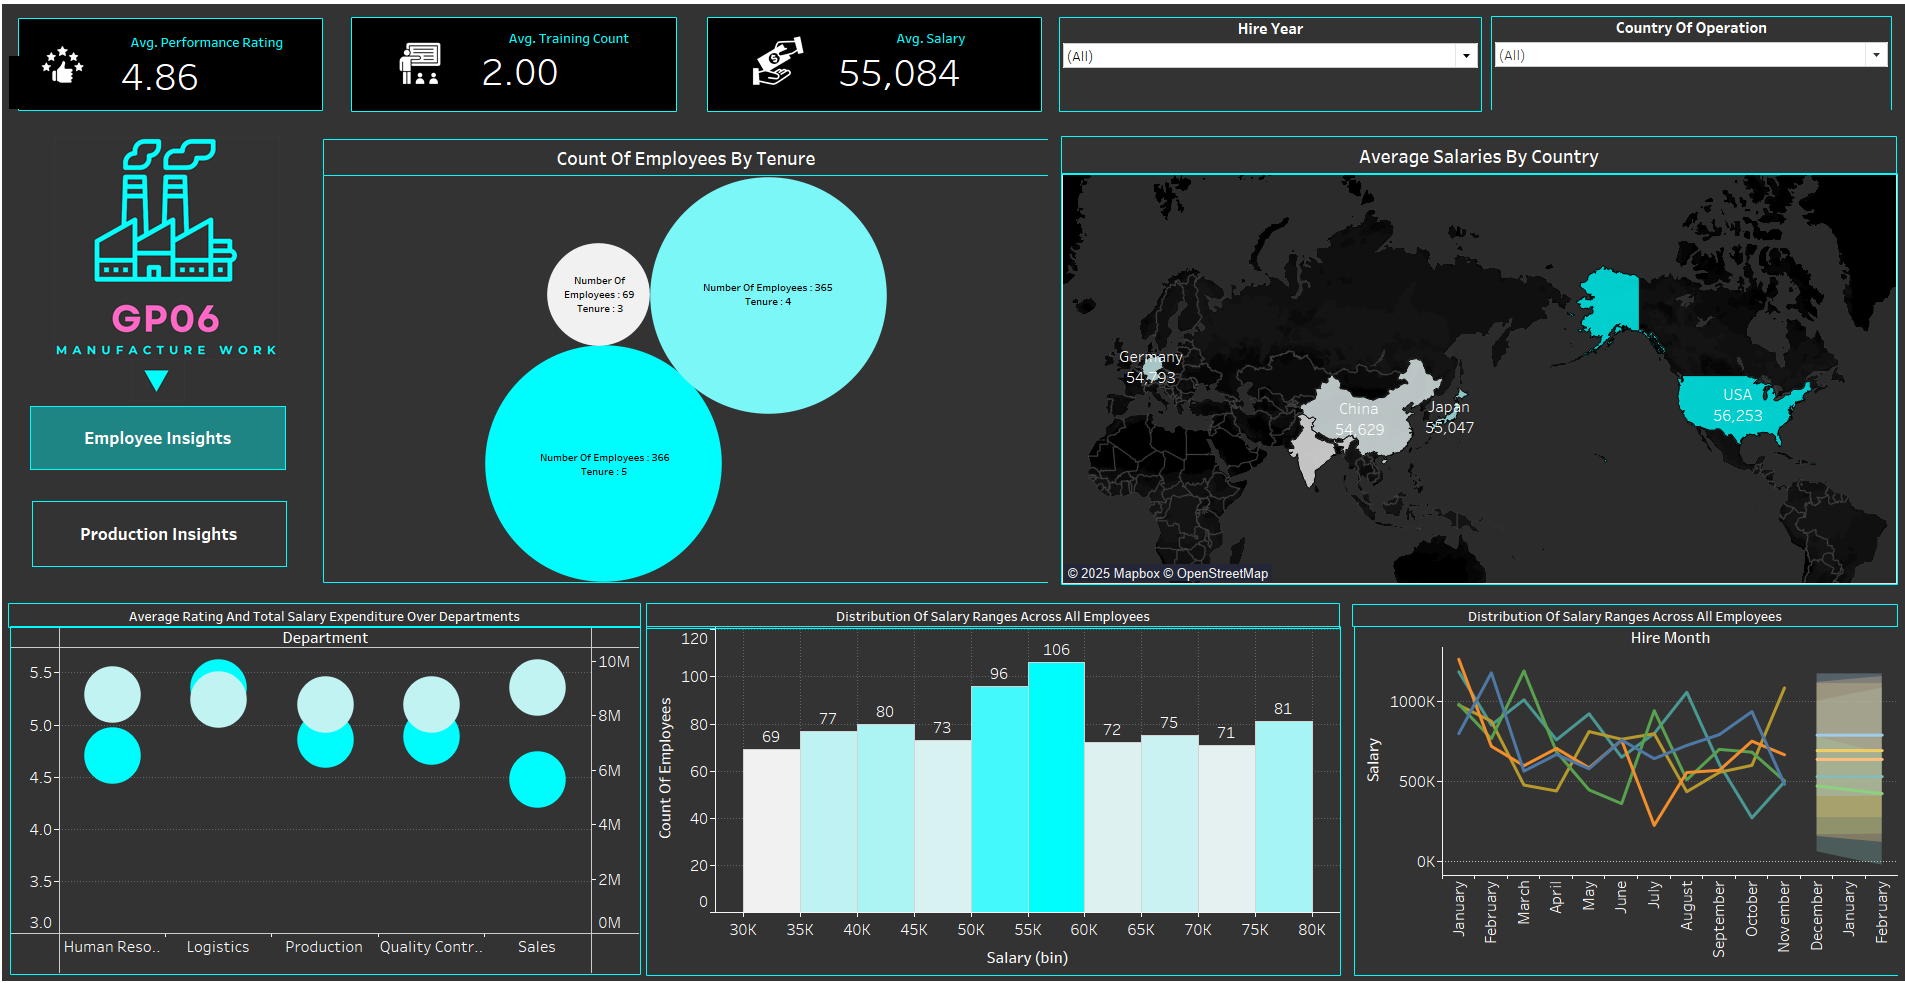

What the dashboard file says about the page in this screenshot:
{"tool":"tableau","page":{"name":"Dashboard Z-Employee Insights","canvas":[1000,1000],"units":"permille","ordinal":1},"visuals":[{"type":"filter","title":"4k-Average Salaries By Country","param":"[federated.16mxhaw1crub1916i474u0y57at2].[none:CountryOfOperation:nk]","box":[779.5,19.8,209,95.3]},{"type":"blank","box":[186.1,21,169.7,95.3]},{"type":"text","box":[239.3,21,119.7,42.1]},{"type":"blank","box":[371.3,21,174.6,95.3]},{"type":"text","box":[428,21,119.6,42.1]},{"type":"filter","title":"10s-Count Of Employees By Tenure","param":"[federated.16mxhaw1crub1916i474u0y57at2].[Action (Hire Year)]","box":[554.9,21,220.5,95.3]},{"type":"blank","box":[12.3,22.3,159,94.1]},{"type":"text","box":[50.8,24.8,119.7,42.1]},{"type":"image","param":"Image/Screenshot 2024-03-15 at 7.41.24 PM.png","box":[14.8,27.2,42.6,85.4]},{"type":"image","param":"Image/Screenshot 2024-03-15 at 8.55.25 PM.png","box":[374.3,27.2,65.9,80.5]},{"type":"image","param":"Image/Screenshot 2024-03-15 at 7.46.29 PM.png","box":[197.5,32.2,50.8,74.3]},{"type":"worksheet","title":"Avg Training Count","mark":"Automatic","box":[238.5,56.9,91.8,54.5]},{"type":"worksheet","title":"Avg Salary","mark":"Automatic","box":[432.9,56.9,110.7,69.3]},{"type":"worksheet","title":"Avg Performance Rating","mark":"Automatic","box":[7.9,60.4,149.1,53.4]},{"type":"image","param":"Image/Screenshot 2024-03-15 at 10.14.24 PM.png","box":[19.7,141.1,140.2,225.2]},{"type":"text","box":[555.7,141.1,435.2,39.6]},{"type":"text","box":[171.3,143.6,377.9,37.1]},{"type":"worksheet","title":"4k-Average Salaries By Country","mark":"Automatic","box":[555.7,178.2,436.1,414.6]},{"type":"worksheet","title":"10s-Count Of Employees By Tenure","mark":"Circle","box":[171.3,180.7,377.9,410.9]},{"type":"image","param":"Image/Screenshot 2024-03-15 at 6.59.47 PM.png","box":[45.6,357.7,79.7,50.7]},{"type":"dashboard-object","box":[18.7,413.4,133.4,64.4]},{"type":"dashboard-object","box":[19.8,508.7,133,66.8]},{"type":"text","box":[7.4,611.4,329.5,24.8]},{"type":"text","box":[339.3,611.4,361.5,26]},{"type":"text","box":[707.4,612.6,284.4,23.5]},{"type":"worksheet","title":"12g-Average Performance Rating And Total Salary Expenditure Over Departments","mark":"Automatic","rows":["Calculation_406379562102562824","Calculation_406379562099986439"],"cols":["Calculation_406379562094436358"],"box":[8.2,634.9,328.7,351.5]},{"type":"worksheet","title":"5z-Distribution Of Salary Ranges Across All Employees","mark":"Automatic","rows":["EmployeeID"],"cols":["Updated Salary (bin)"],"box":[339.5,634.9,362.1,352.7]},{"type":"worksheet","title":"16t-Predictive Forecasting Of Salary Over Upcoming Time Period","mark":"Automatic","rows":["Calculation_406379562099986439"],"cols":["Hire Month"],"box":[708.2,634.9,283.6,352.7]}]}

Visuals, with their boxes on the dashboard's canvas, which has no fixed pixel size, in thousandths of its width and height (x1, y1, x2, y2). These are canvas units, not pixel positions in the 1905x983 screenshot, which may show the page scaled, cropped or inside an application window:
"4k-Average Salaries By Country" filter: {"x1": 780, "y1": 20, "x2": 988, "y2": 115}
blank: {"x1": 186, "y1": 21, "x2": 356, "y2": 116}
text: {"x1": 239, "y1": 21, "x2": 359, "y2": 63}
blank: {"x1": 371, "y1": 21, "x2": 546, "y2": 116}
text: {"x1": 428, "y1": 21, "x2": 548, "y2": 63}
"10s-Count Of Employees By Tenure" filter: {"x1": 555, "y1": 21, "x2": 775, "y2": 116}
blank: {"x1": 12, "y1": 22, "x2": 171, "y2": 116}
text: {"x1": 51, "y1": 25, "x2": 170, "y2": 67}
image: {"x1": 15, "y1": 27, "x2": 57, "y2": 113}
image: {"x1": 374, "y1": 27, "x2": 440, "y2": 108}
image: {"x1": 198, "y1": 32, "x2": 248, "y2": 106}
"Avg Training Count" worksheet: {"x1": 238, "y1": 57, "x2": 330, "y2": 111}
"Avg Salary" worksheet: {"x1": 433, "y1": 57, "x2": 544, "y2": 126}
"Avg Performance Rating" worksheet: {"x1": 8, "y1": 60, "x2": 157, "y2": 114}
image: {"x1": 20, "y1": 141, "x2": 160, "y2": 366}
text: {"x1": 556, "y1": 141, "x2": 991, "y2": 181}
text: {"x1": 171, "y1": 144, "x2": 549, "y2": 181}
"4k-Average Salaries By Country" worksheet: {"x1": 556, "y1": 178, "x2": 992, "y2": 593}
"10s-Count Of Employees By Tenure" worksheet (Circle marks): {"x1": 171, "y1": 181, "x2": 549, "y2": 592}
image: {"x1": 46, "y1": 358, "x2": 125, "y2": 408}
dashboard-object: {"x1": 19, "y1": 413, "x2": 152, "y2": 478}
dashboard-object: {"x1": 20, "y1": 509, "x2": 153, "y2": 576}
text: {"x1": 7, "y1": 611, "x2": 337, "y2": 636}
text: {"x1": 339, "y1": 611, "x2": 701, "y2": 637}
text: {"x1": 707, "y1": 613, "x2": 992, "y2": 636}
"12g-Average Performance Rating And Total Salary Expenditure Over Departments" worksheet: {"x1": 8, "y1": 635, "x2": 337, "y2": 986}
"5z-Distribution Of Salary Ranges Across All Employees" worksheet: {"x1": 340, "y1": 635, "x2": 702, "y2": 988}
"16t-Predictive Forecasting Of Salary Over Upcoming Time Period" worksheet: {"x1": 708, "y1": 635, "x2": 992, "y2": 988}
